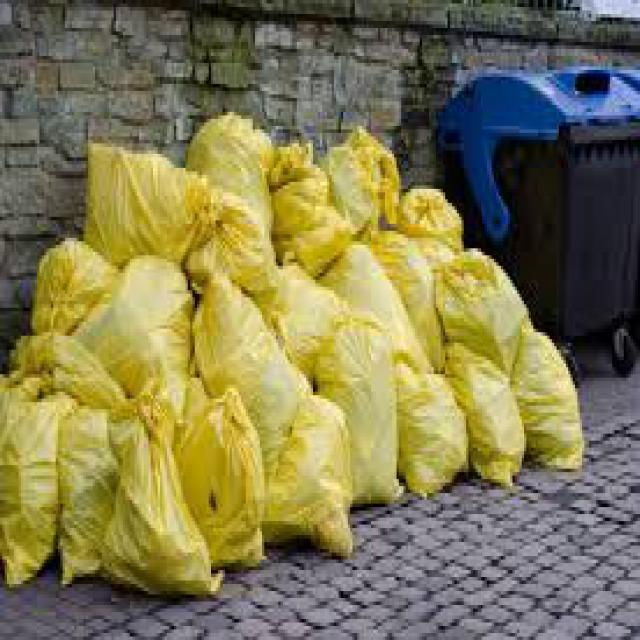waste: (186, 274, 303, 441), (184, 112, 282, 298), (116, 412, 212, 598), (84, 261, 194, 414), (266, 390, 356, 562), (84, 138, 201, 268), (183, 382, 264, 566), (320, 330, 404, 500), (54, 402, 128, 578), (0, 364, 60, 579), (432, 242, 530, 368), (448, 342, 528, 489), (394, 362, 469, 502), (518, 323, 587, 471), (270, 140, 345, 276), (334, 238, 436, 338), (12, 334, 126, 412), (32, 242, 116, 336), (328, 128, 391, 234), (399, 175, 466, 245)
